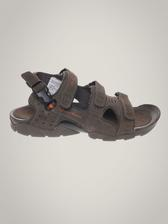shoes: (7, 69, 163, 140)
